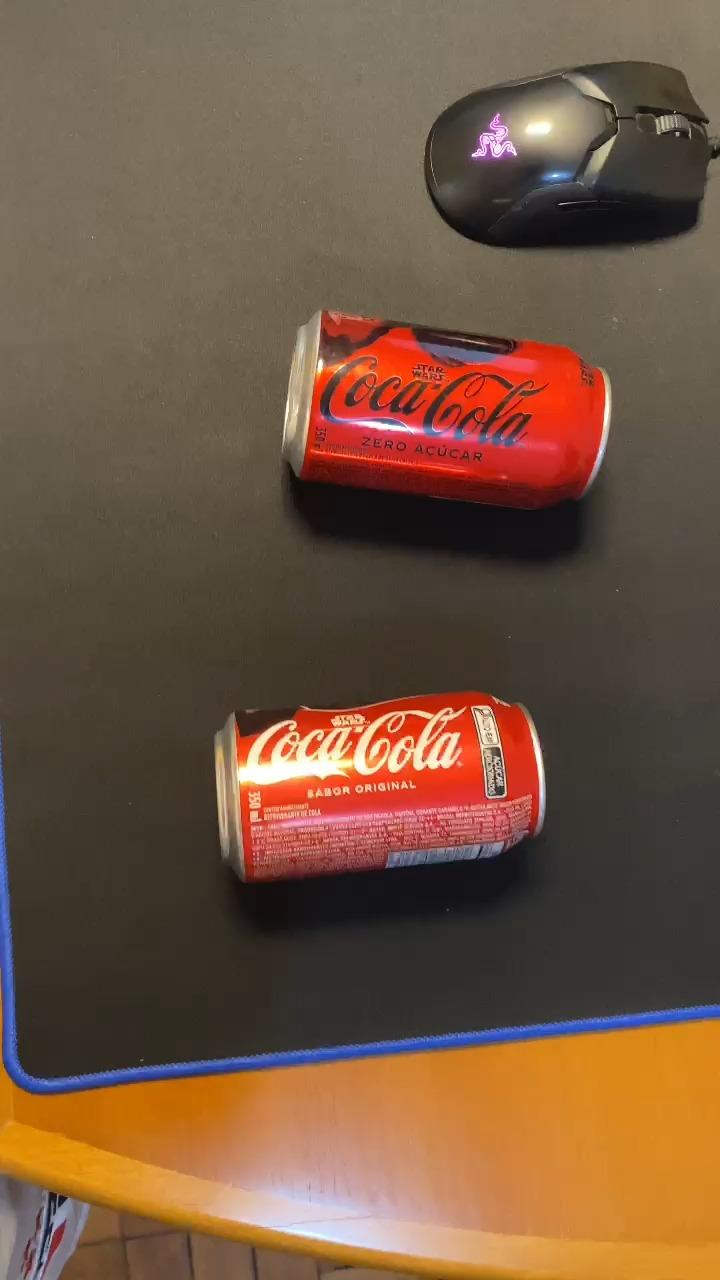coke: (278, 311, 614, 514), (214, 689, 551, 885)
